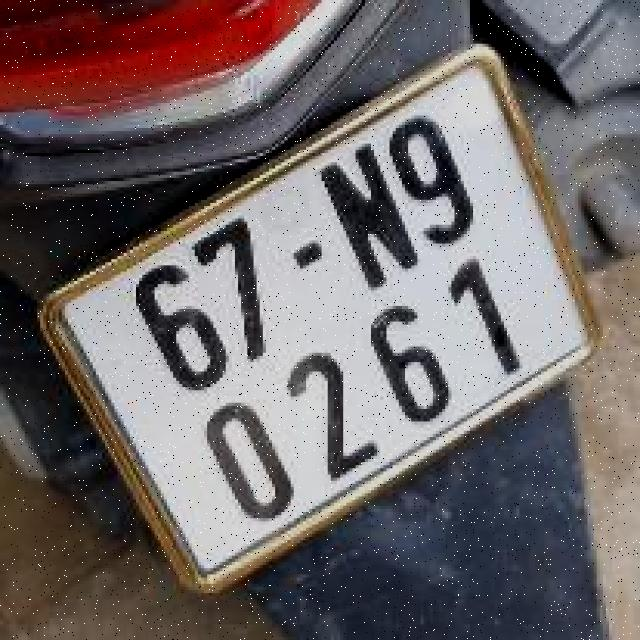0: (187, 386, 312, 537)
1: (435, 242, 545, 394)
2: (270, 337, 393, 497)
6: (116, 249, 243, 419), (347, 289, 475, 436)
7: (178, 201, 298, 377)
9: (375, 98, 493, 263)
N: (303, 131, 431, 304)
